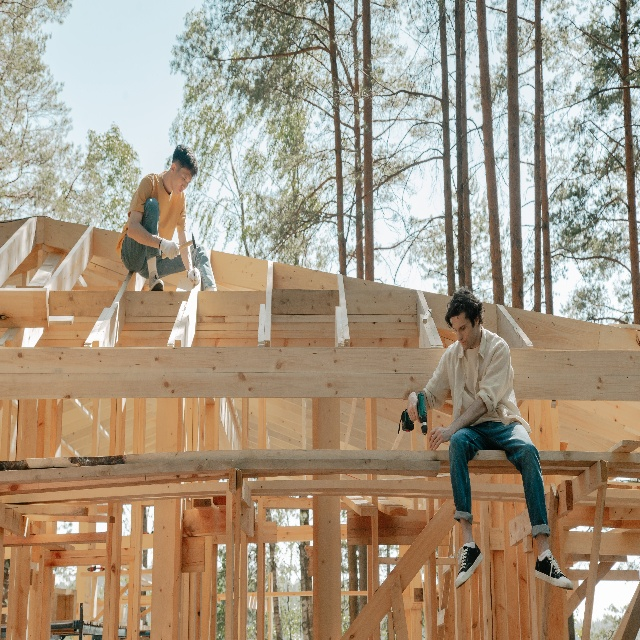Guantes: (159, 237, 180, 260), (187, 267, 201, 285)
Sin_guantes: (428, 426, 452, 451), (407, 392, 421, 423)
